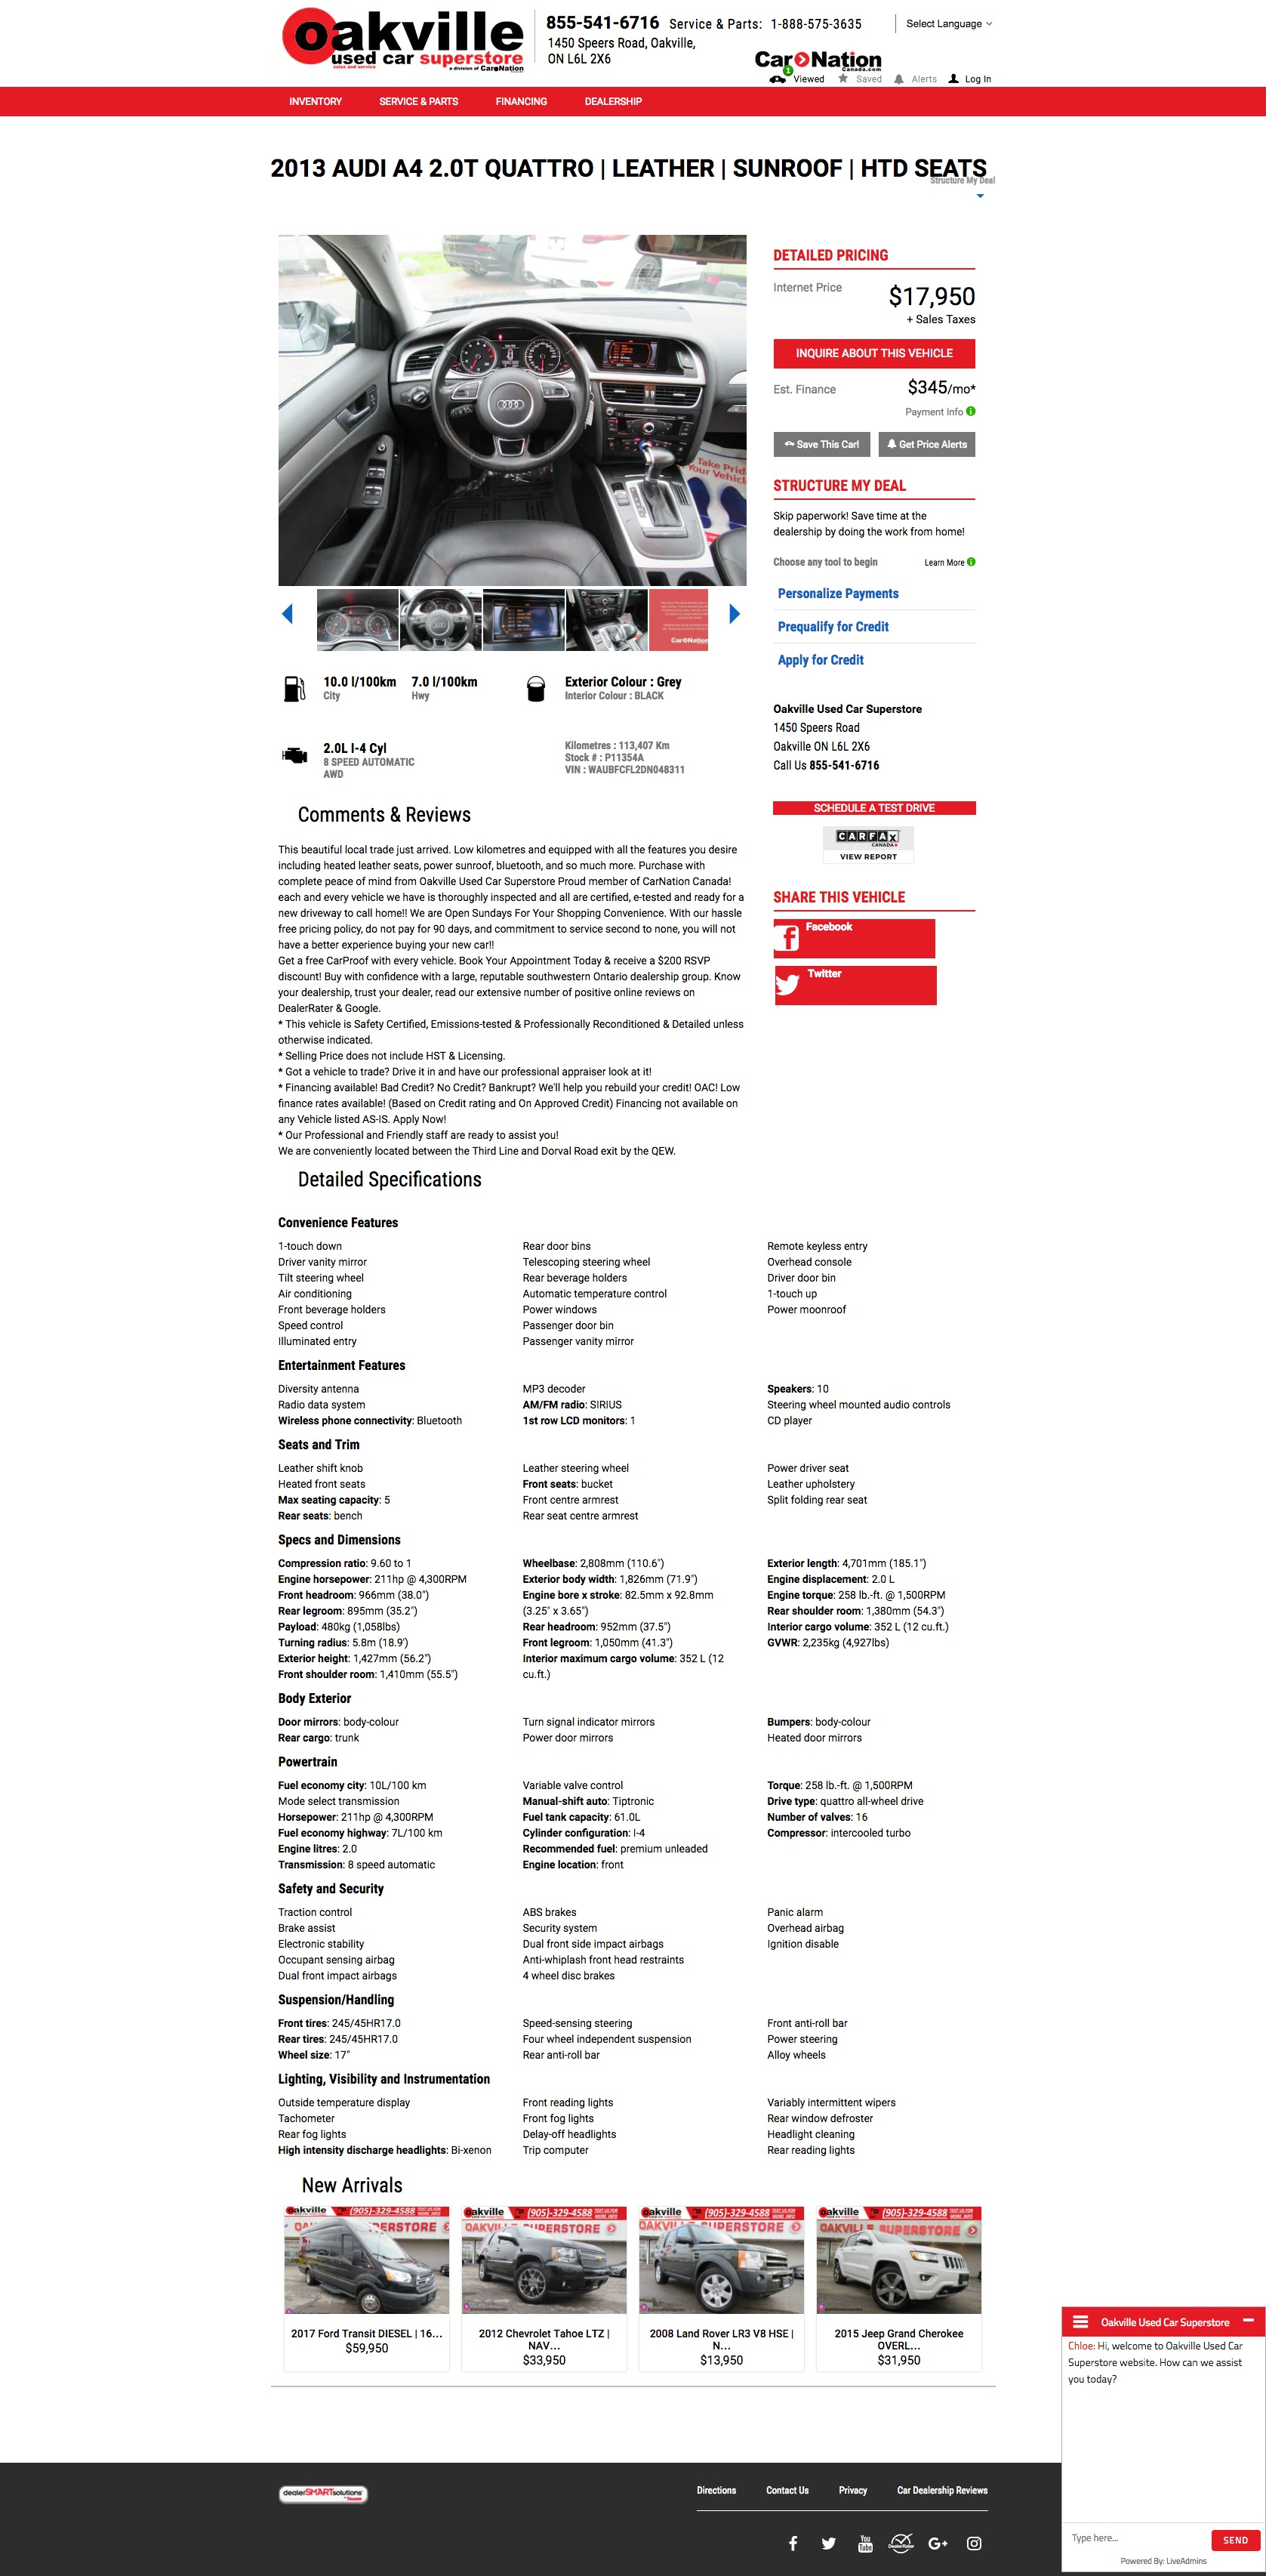car: (729, 603, 741, 626)
